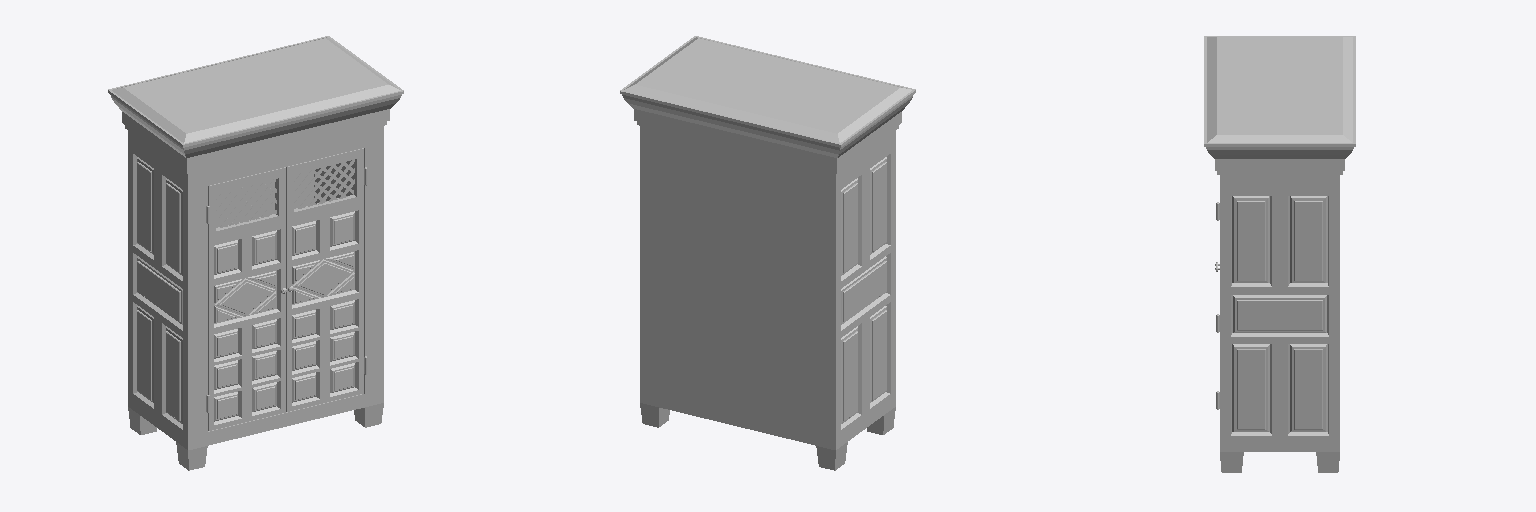
Rendered from old_cupboard.obj.
3 renders of one model, left to right at view 1: azimuth 30°, elevation 25°; view 2: azimuth 150°, elevation 25°; view 3: azimuth 270°, elevation 25°, orthographic.
Visible parts, largest first — view 1: spera_cupboard_tst_right_door, spera_cupboard_tst_left_door; view 2: none; view 3: none.
Part boxes in pixels (bbox=[...]): spera_cupboard_tst_right_door: bbox=[286, 148, 363, 411]; spera_cupboard_tst_left_door: bbox=[208, 167, 286, 430].
Size of the model in its own units: 0.2882 by 0.4231 by 0.1706.